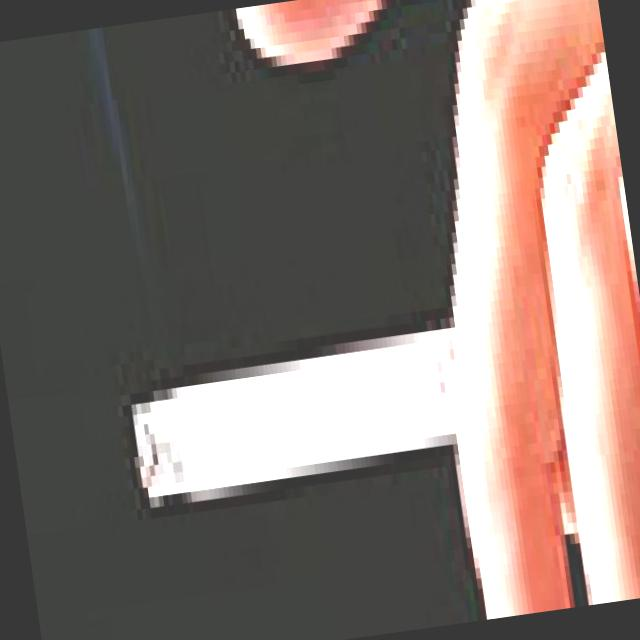cigarette: (128, 306, 474, 508)
